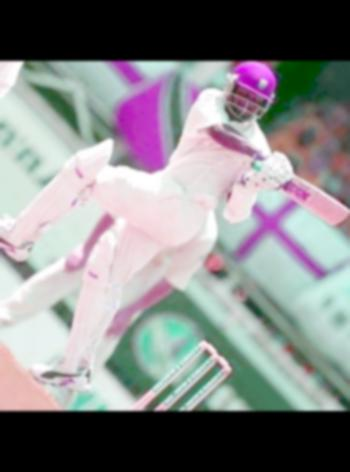batsman: (0, 61, 316, 408)
